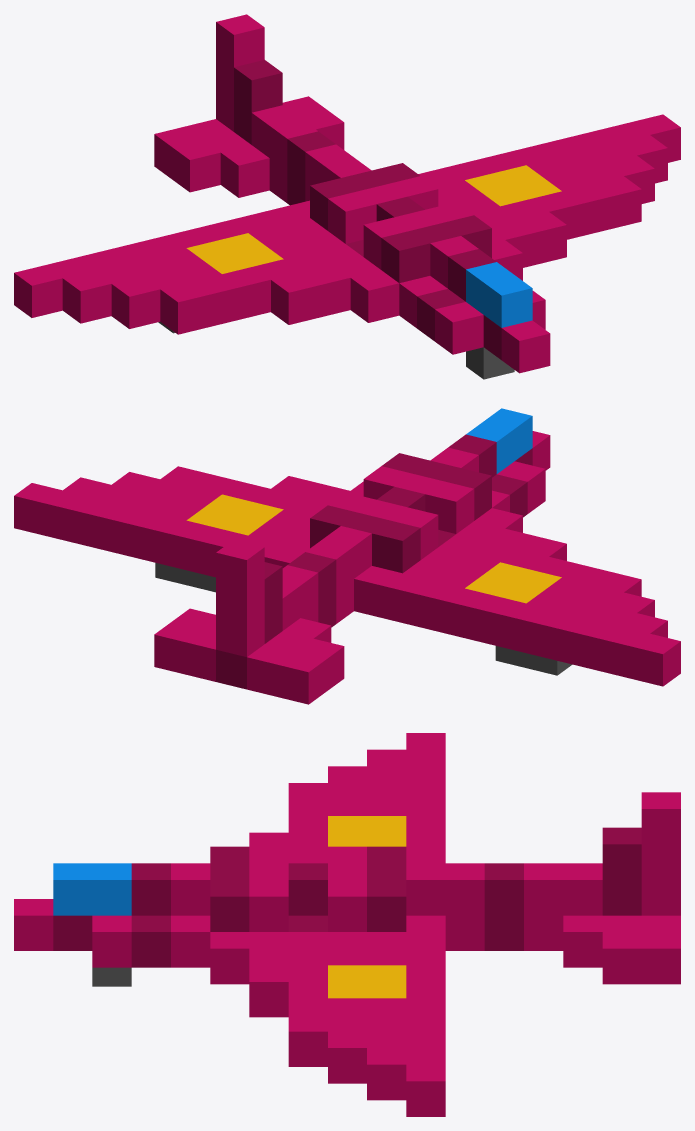
File: EnemyPlane.obj
3 renders of one model, top to bottom at view 1: azimuth 30°, elevation 25°; view 2: azimuth 150°, elevation 25°; view 3: azimuth 270°, elevation 25°, orthographic. The views are drawn at different scales.
Bounding box in the file's own units: 2.1 × 0.5 × 1.7.
1 material, 1 textured.
